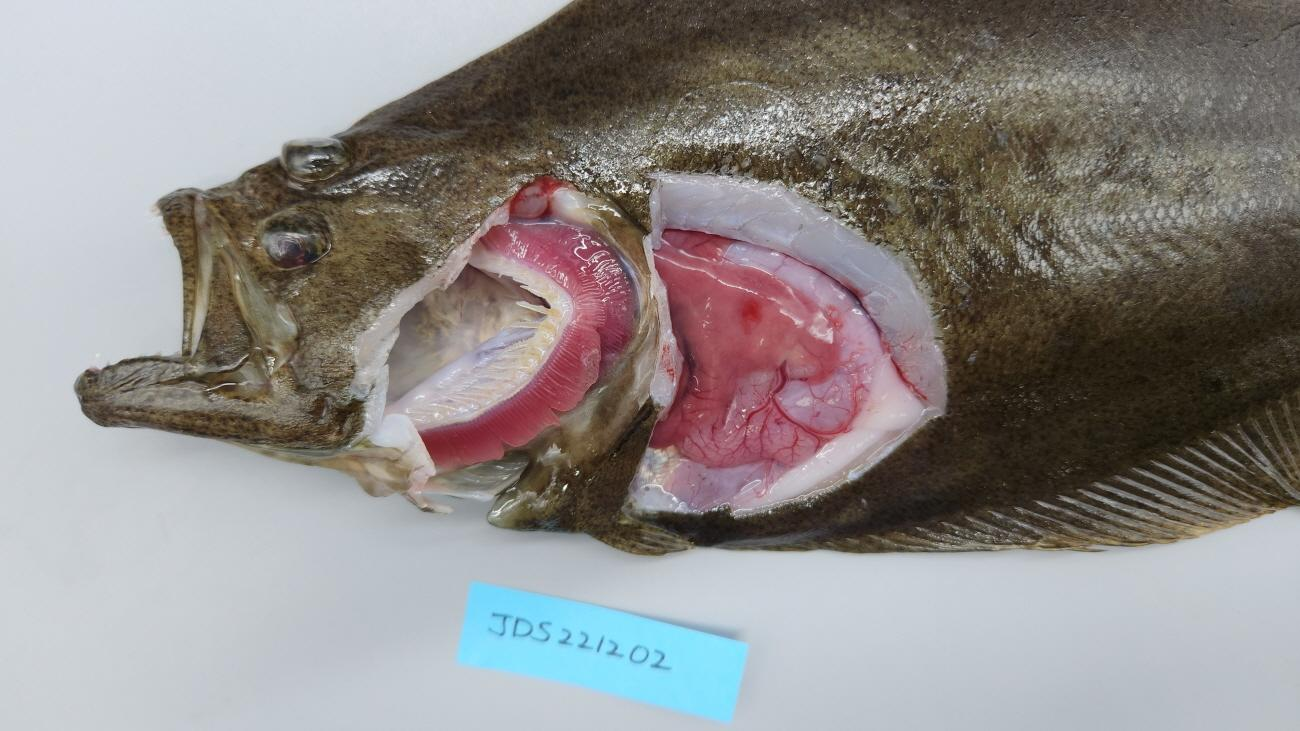SPLIC: (732, 295, 763, 336)
